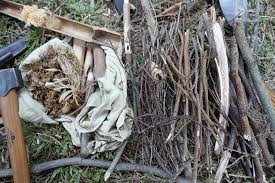wood_together: (141, 22, 265, 173)
